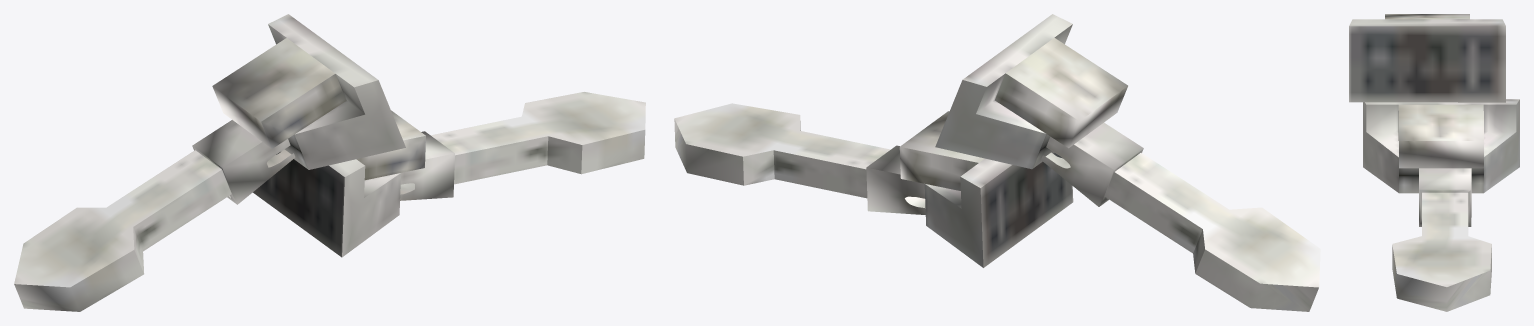
The model's file is poi_r5_leg_l2.fbx.
The picture shows the model from 3 angles, left to right: view 1: azimuth 30°, elevation 25°; view 2: azimuth 150°, elevation 25°; view 3: azimuth 270°, elevation 25°; orthographic projection. The views are drawn at different scales.
Parts seen in each view (by area): view 1: mesh_node; view 2: mesh_node; view 3: mesh_node.
Boxes of the visible parts, x1,y1,x2,y2 form: mesh_node: [14, 14, 645, 311]; mesh_node: [674, 14, 1320, 311]; mesh_node: [1349, 14, 1519, 311].
Bounding box in the file's own units: 1.45 × 0.4107 × 0.3868.
1 material, 1 textured.
